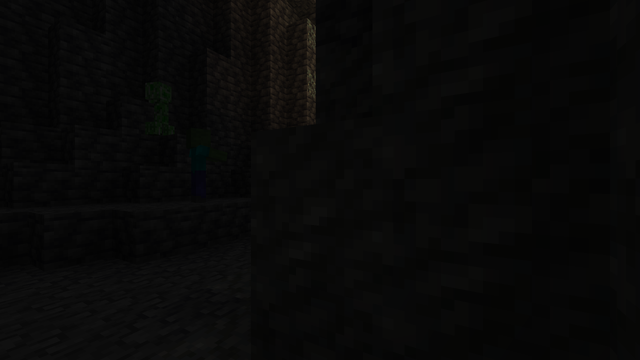creepers: (143, 77, 173, 137)
zombies: (181, 129, 214, 203)
